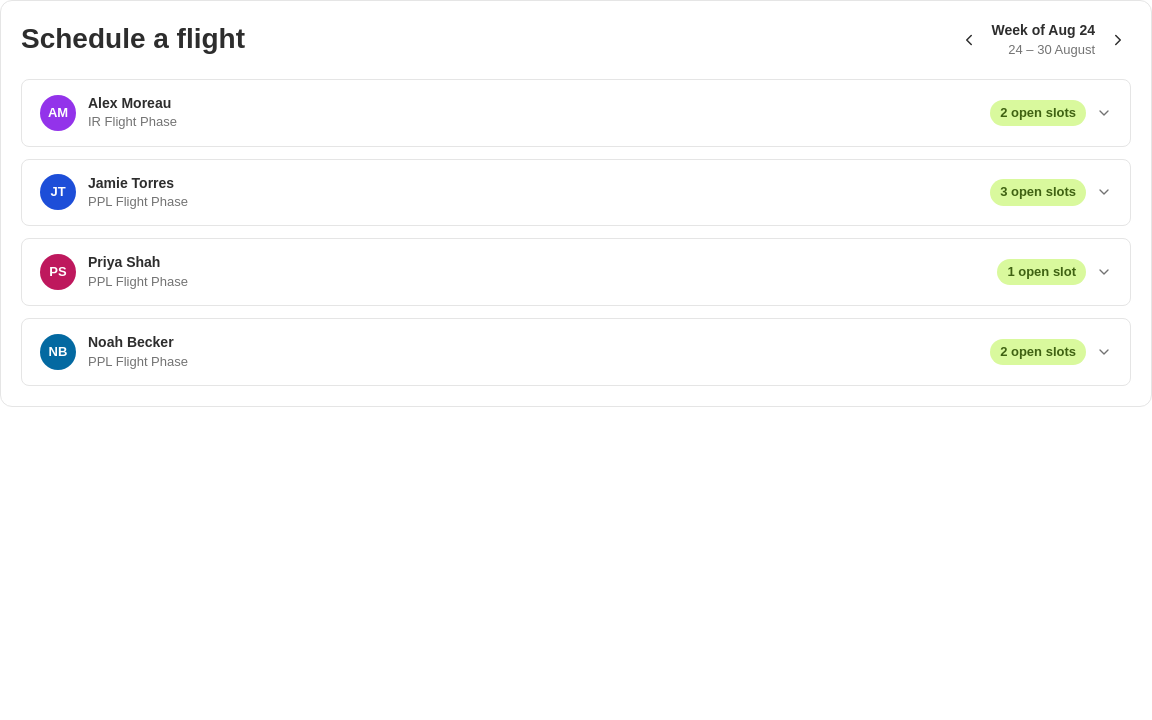
Test case: InstructorSchedulePanel › toggles a student panel open and closed, updating aria-expanded and slot visibility
Check: the text "Mon 24" is not shown
Click the button "AM Alex Moreau IR Flight Phase 2 open slots".
click(58, 113)  # box [22,80,1130,146]
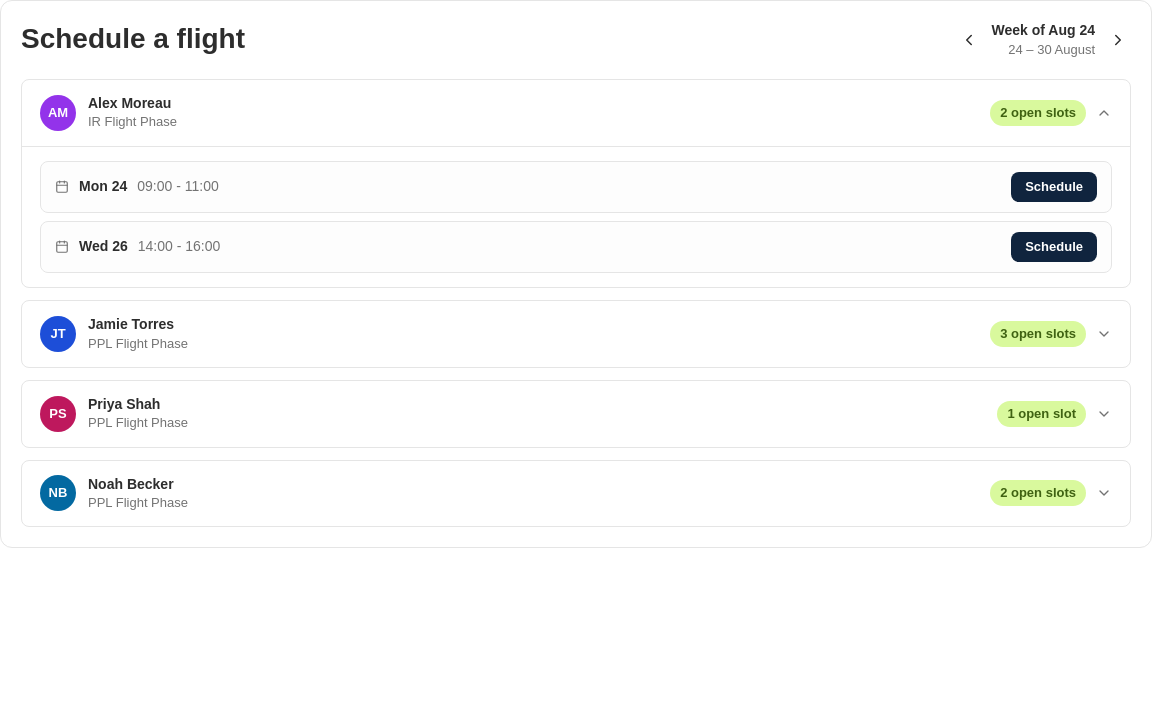
Check: the button "AM Alex Moreau IR Flight Phase 2 open slots" is expanded
Check: the text "Mon 24" is shown, box [79,177,127,196]
Click the button "AM Alex Moreau IR Flight Phase 2 open slots".
click(58, 113)  # box [22,80,1130,146]
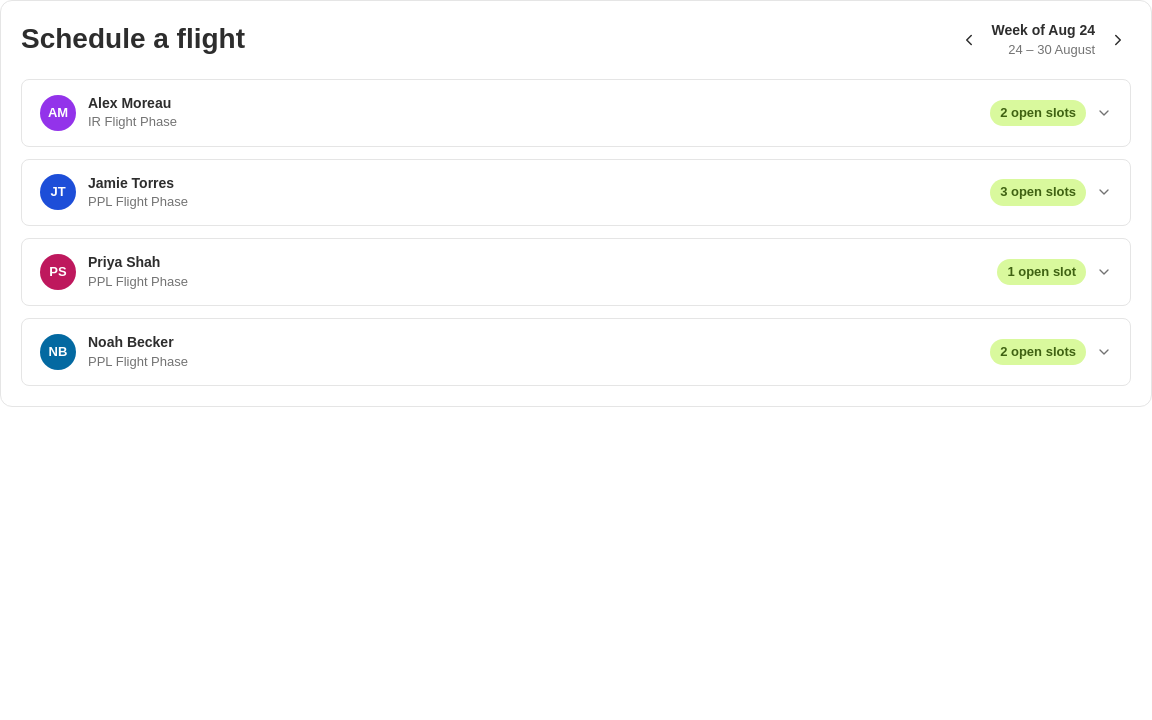
Check: the button "AM Alex Moreau IR Flight Phase 2 open slots" is collapsed, box [22,80,1130,146]
Check: the text "Mon 24" is gone
